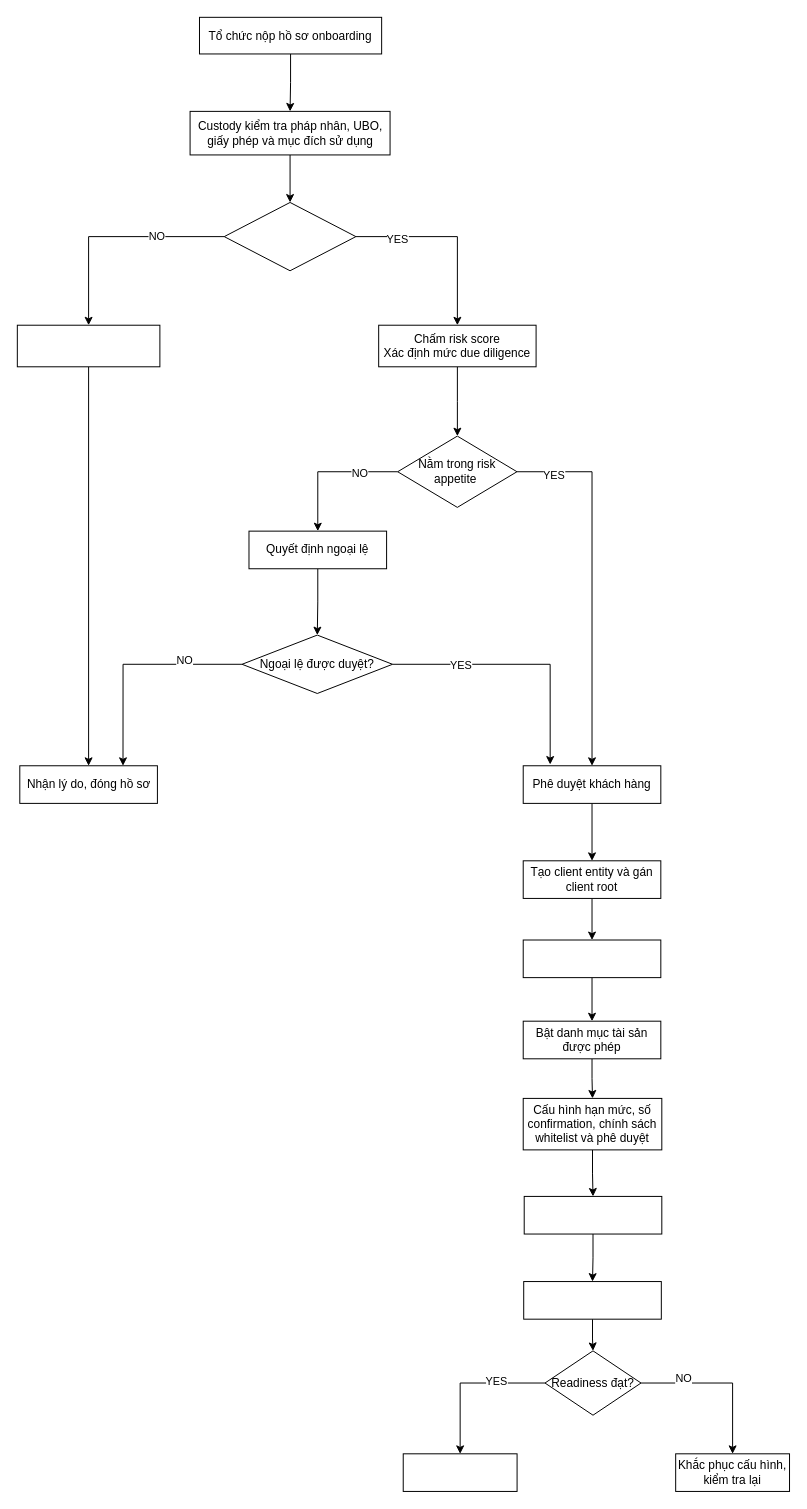
Image size: 807x1509. Some labels were removed from this diagram. The centre of each missing label's shape, as x and y in pixels:
"Hồ sơ đầy đủ, acceptable?" belongs at pixel 289 236.
"Kiểm tra readiness: quyền, ví, policy, báo cáo" belongs at pixel 592 1300.
"Kích hoạt client và bắt đầu giao dịch" belongs at pixel 459 1472.
"Root invite member" belongs at pixel 591 958.
"Yêu cầu bổ sung/từ chối onboarding" belongs at pixel 88 345.
"Đăng kí deposit wallet riêng cho từng client" belongs at pixel 592 1214.
